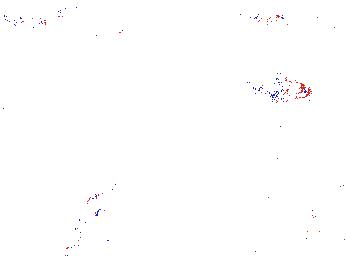X-ray fish: (149, 163, 191, 196)
glassfish: (68, 162, 126, 251), (191, 132, 275, 189)
red belly glassfish: (258, 80, 311, 99), (10, 10, 48, 28), (254, 12, 285, 27)
redtail glassfish: (246, 9, 342, 33)
